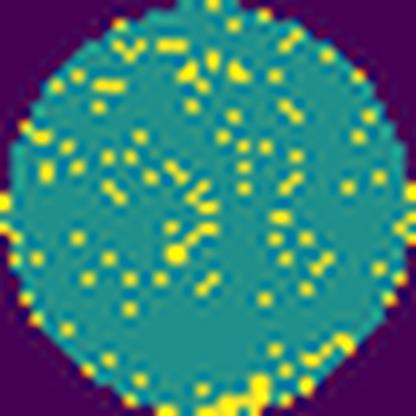Edge-Loc: (192, 374, 280, 416)
